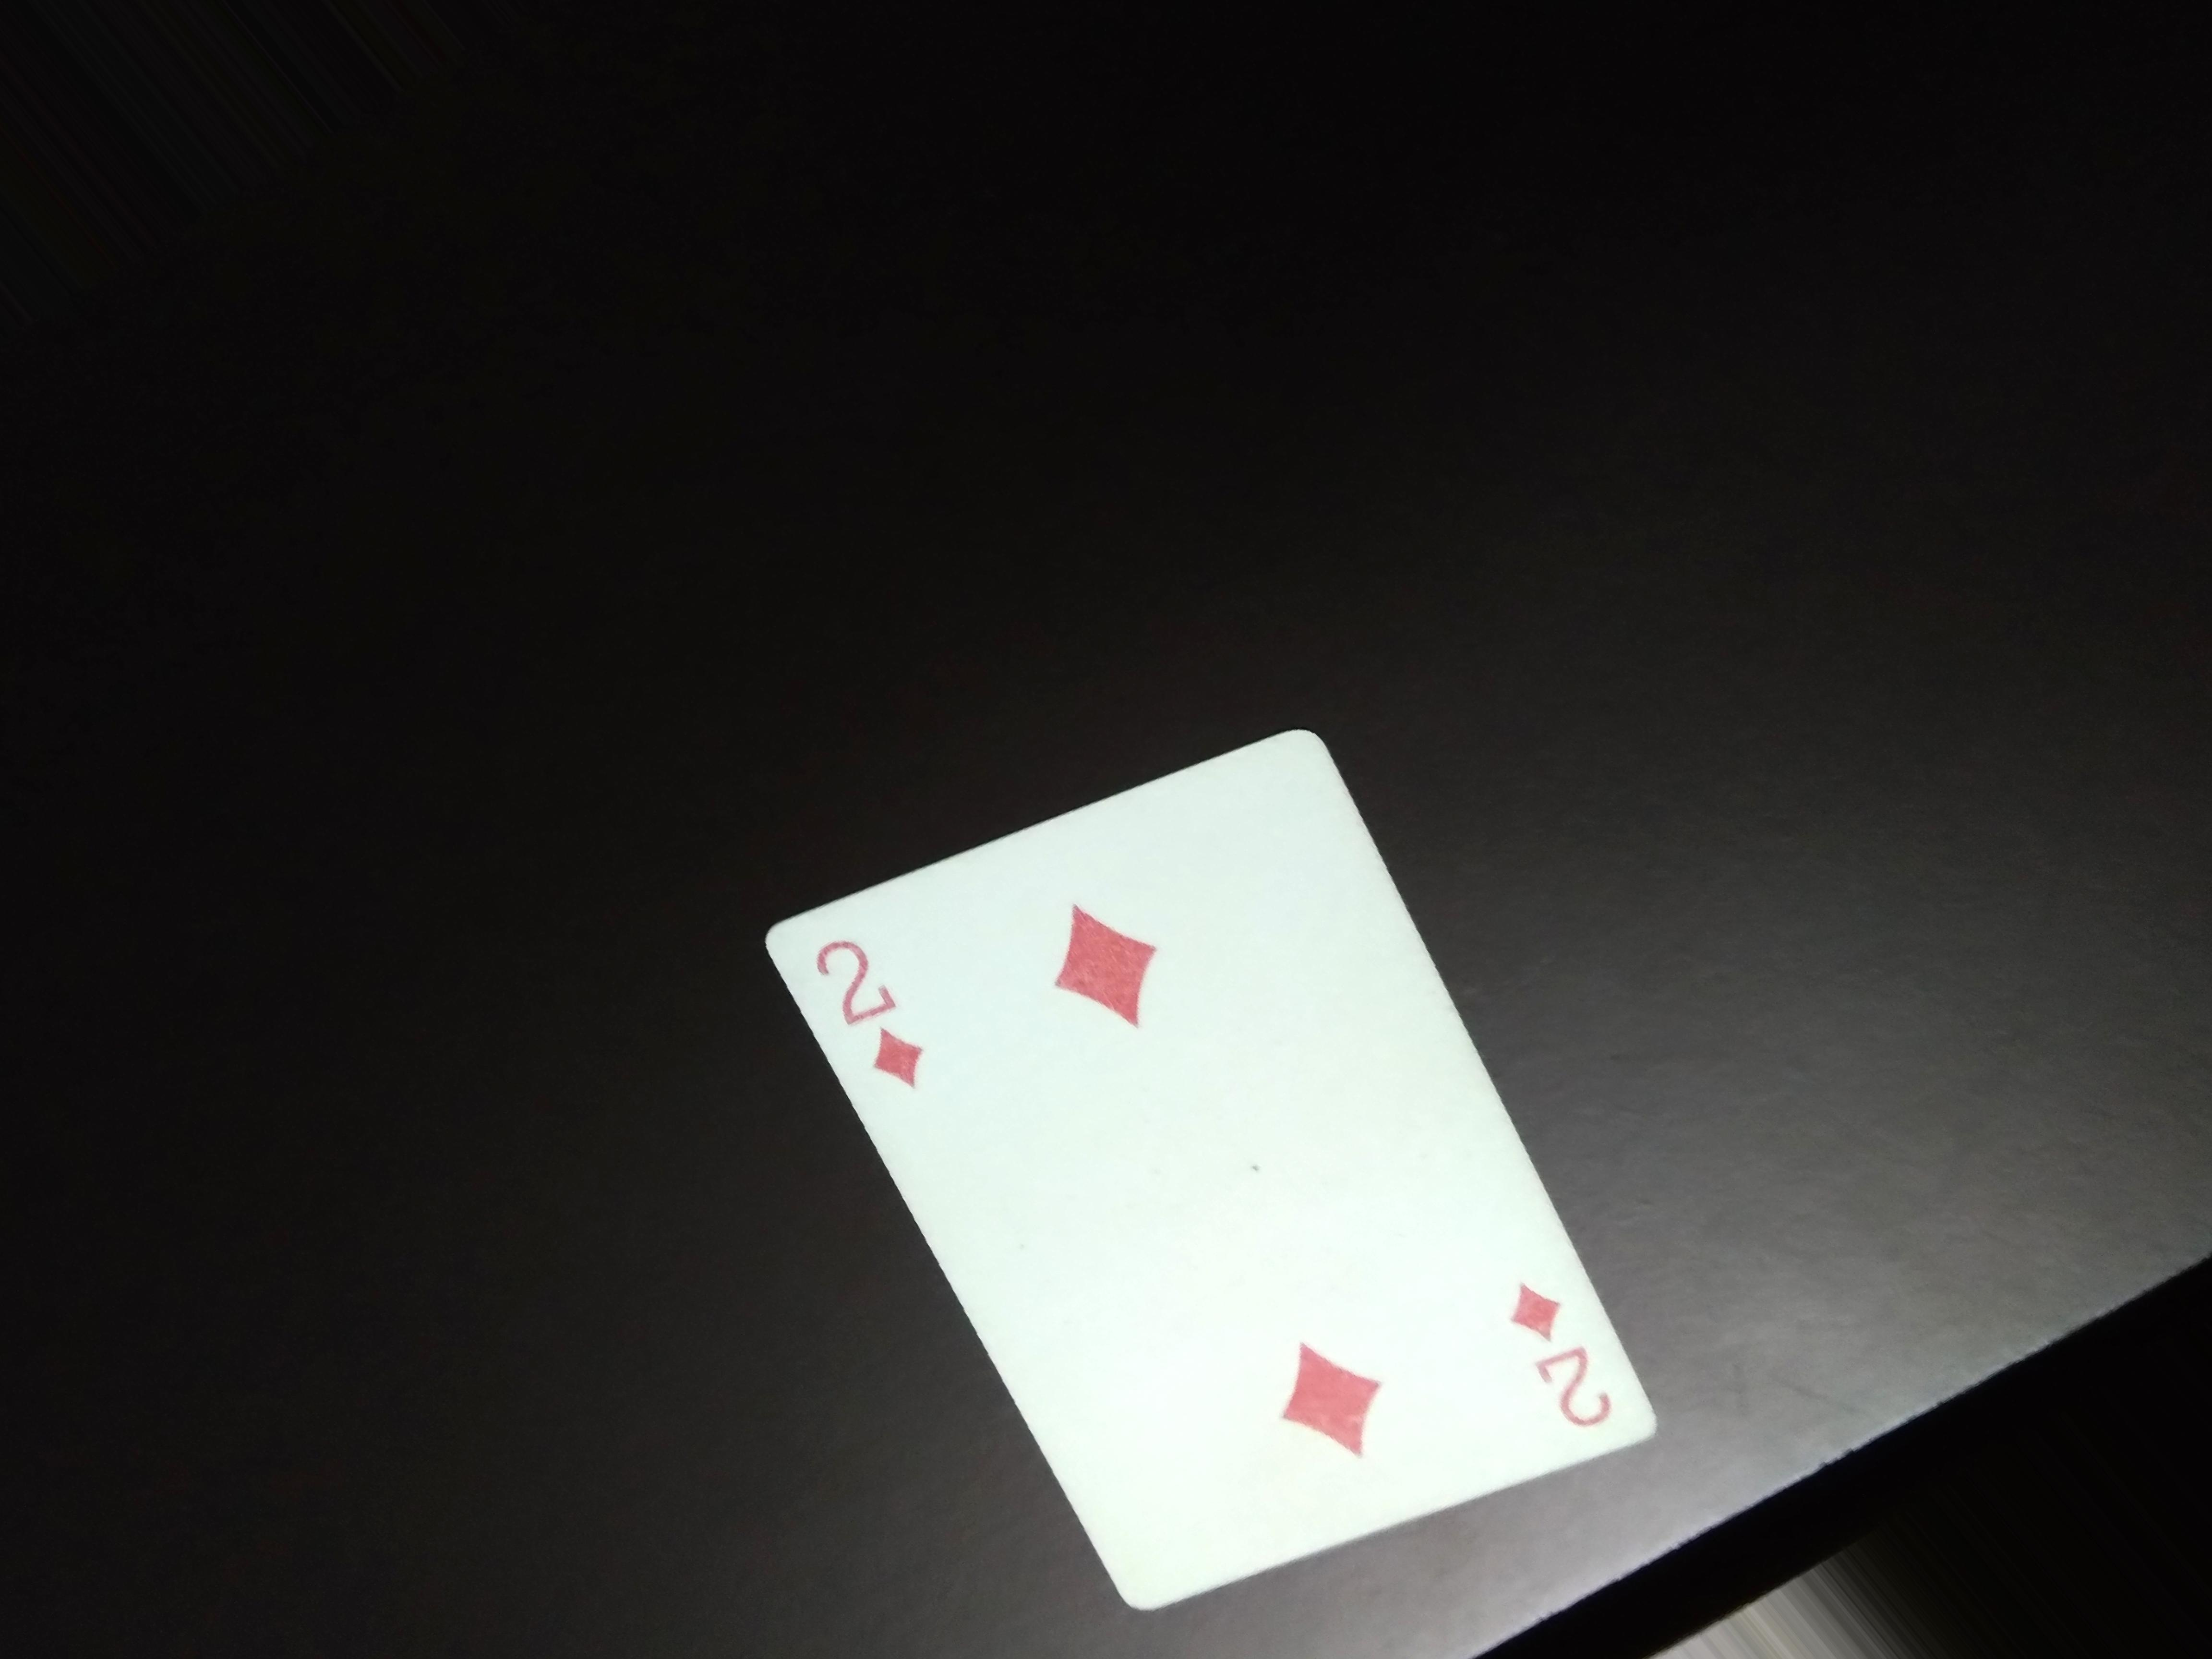2D: (784, 922, 946, 1096)
